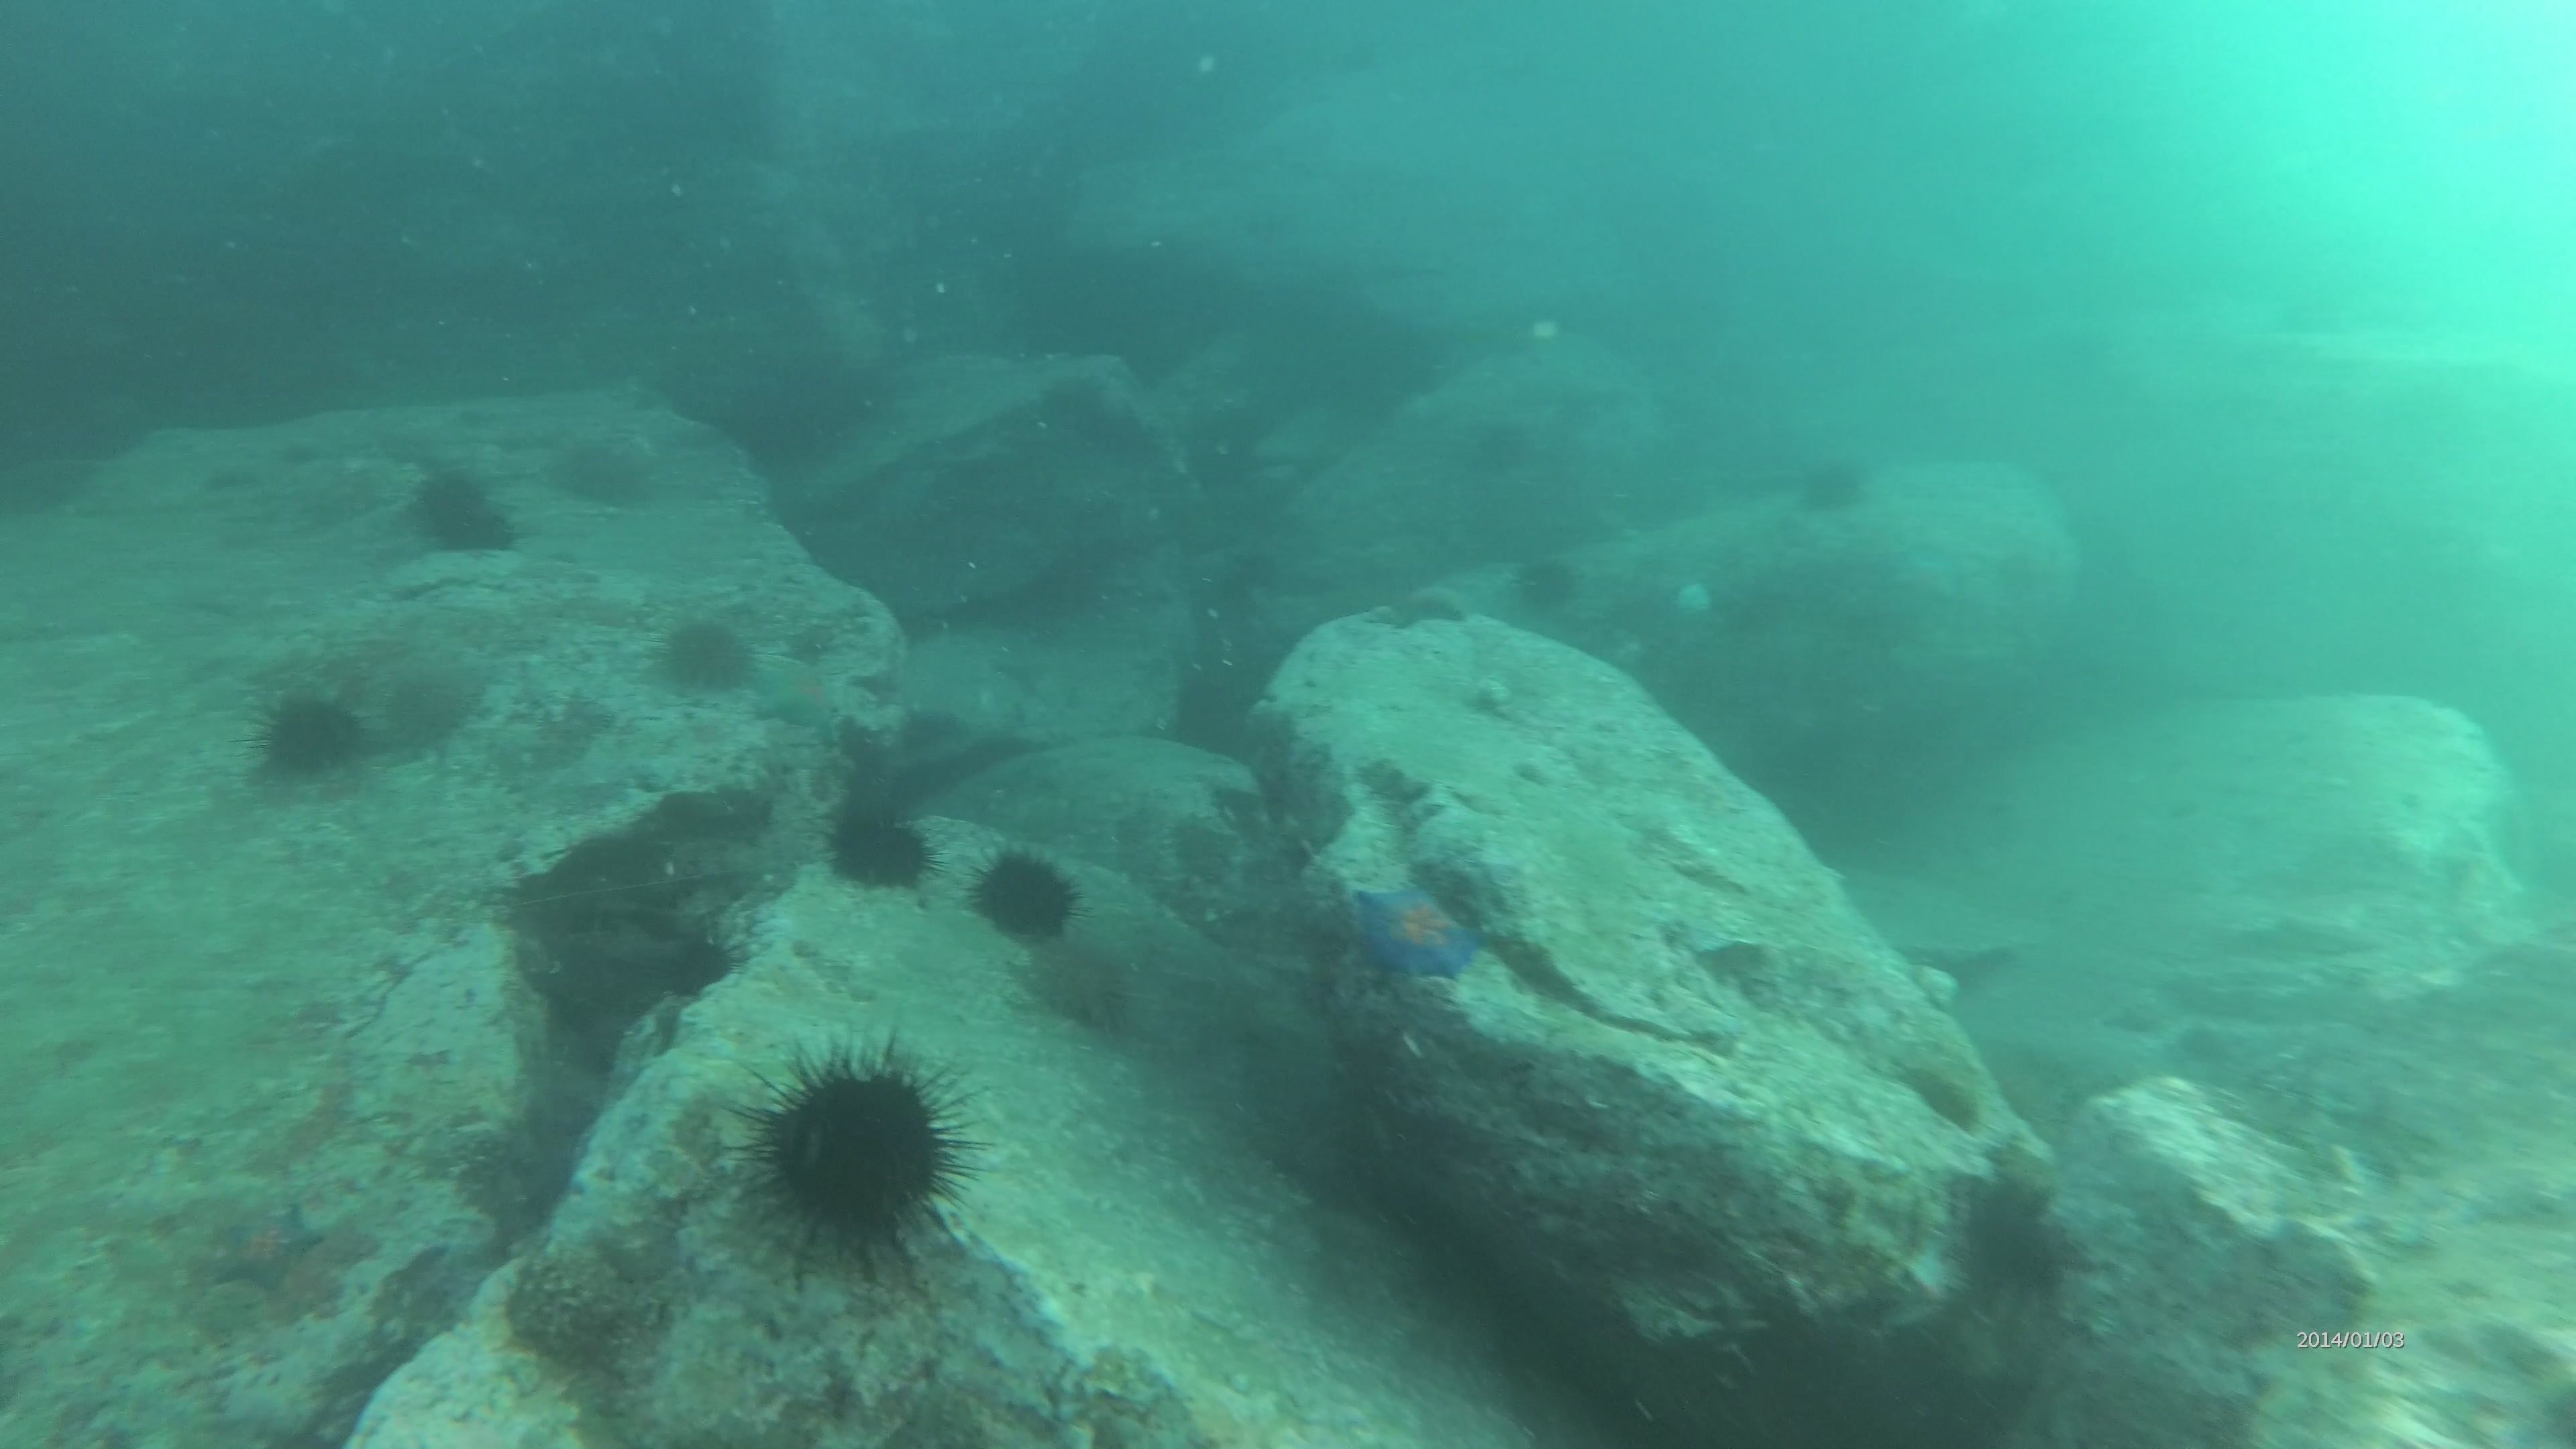echinus: (732, 1033, 982, 1270), (1951, 1169, 2079, 1309), (244, 681, 373, 789), (398, 458, 524, 563), (966, 840, 1086, 948), (1019, 932, 1139, 1035), (821, 796, 939, 899), (646, 605, 761, 702), (377, 660, 483, 759), (550, 430, 658, 515), (1789, 446, 1875, 522), (1502, 547, 1585, 625)
starfish: (1343, 872, 1490, 989), (200, 1191, 327, 1299), (743, 648, 849, 736), (1376, 579, 1474, 635)
